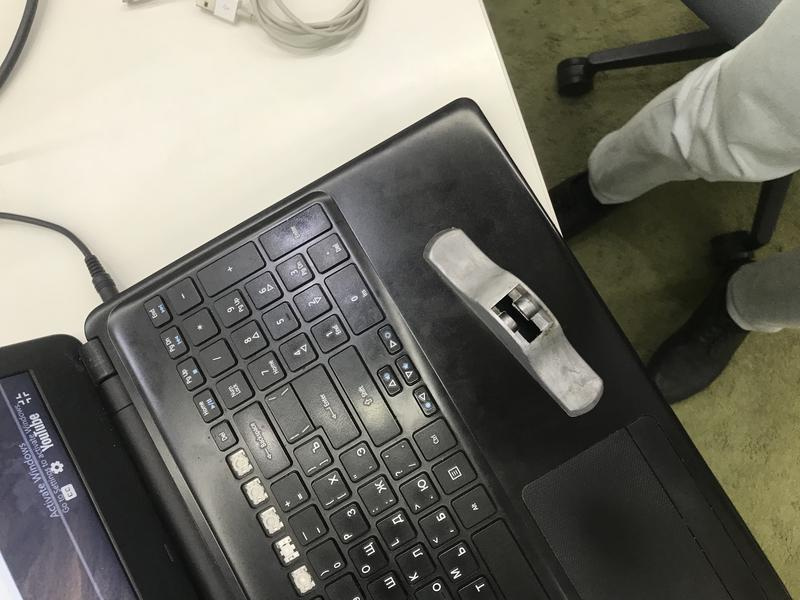zapchast: (418, 216, 615, 430)
